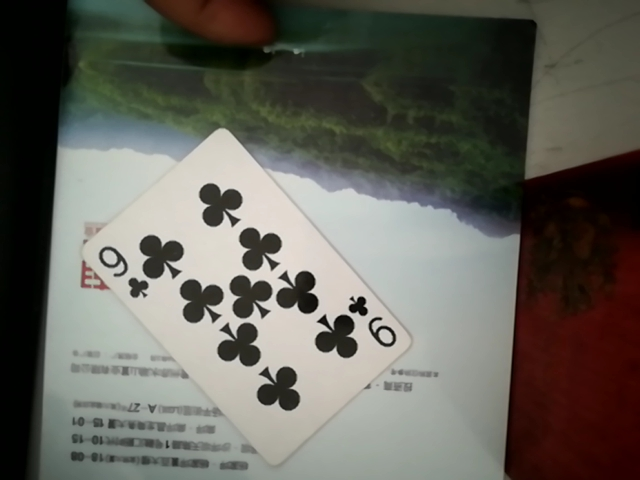mh 9: (64, 117, 415, 464)
